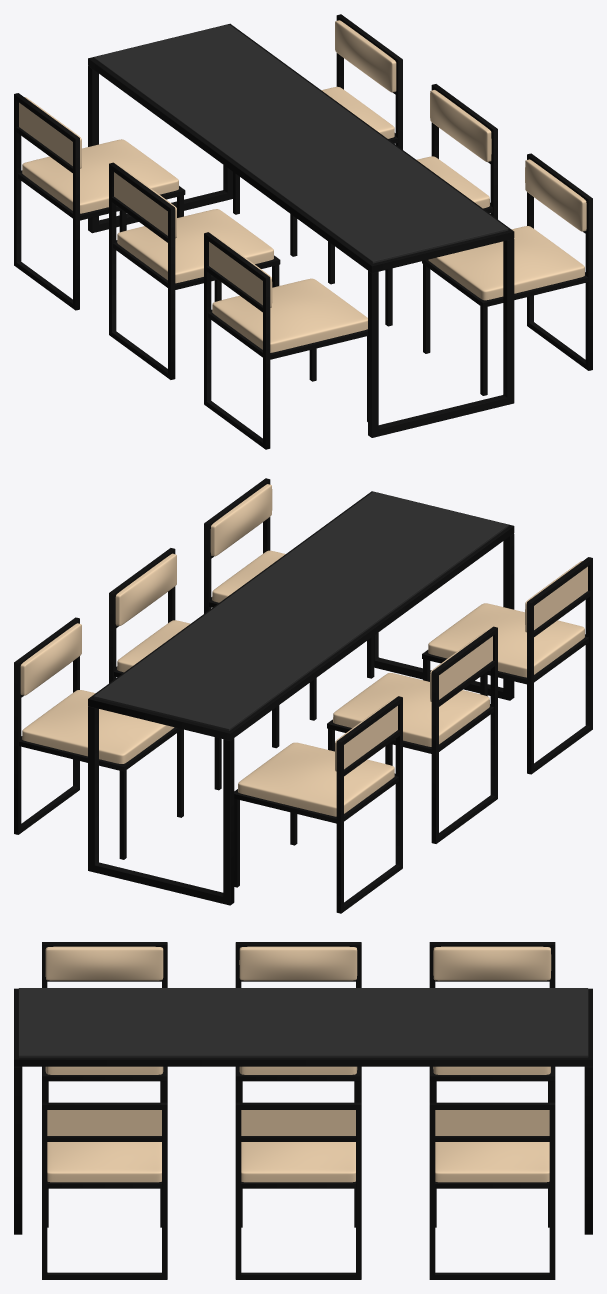
File: Set03.FBX
The picture shows the model from 3 angles, top to bottom: view 1: azimuth 30°, elevation 25°; view 2: azimuth 150°, elevation 25°; view 3: azimuth 270°, elevation 25°; orthographic projection.
Parts seen in each view (by area): view 1: Set03 - Long Table - 001, Set03 - Chair - 04, Set03 - Chair - 02, Set03 - Chair - 06, Set03 - Chair - 05, Set03 - Chair - 01, Set03 - Chair - 03; view 2: Set03 - Long Table - 001, Set03 - Chair - 05, Set03 - Chair - 03, Set03 - Chair - 06, Set03 - Chair - 04, Set03 - Chair - 01, Set03 - Chair - 02; view 3: Set03 - Long Table - 001, Set03 - Chair - 03, Set03 - Chair - 01, Set03 - Chair - 02, Set03 - Chair - 05, Set03 - Chair - 06, Set03 - Chair - 04.
Part boxes in pixels (left/top/right/bottom): Set03 - Long Table - 001: left=88, top=23, right=514, bottom=437; Set03 - Chair - 04: left=204, top=232, right=367, bottom=449; Set03 - Chair - 02: left=422, top=153, right=592, bottom=395; Set03 - Chair - 06: left=109, top=162, right=280, bottom=379; Set03 - Chair - 05: left=14, top=93, right=185, bottom=310; Set03 - Chair - 01: left=328, top=84, right=497, bottom=326; Set03 - Chair - 03: left=233, top=14, right=402, bottom=256; Set03 - Long Table - 001: left=88, top=491, right=514, bottom=905; Set03 - Chair - 05: left=234, top=696, right=402, bottom=913; Set03 - Chair - 03: left=14, top=617, right=183, bottom=859; Set03 - Chair - 06: left=327, top=626, right=497, bottom=843; Set03 - Chair - 04: left=422, top=557, right=592, bottom=774; Set03 - Chair - 01: left=109, top=548, right=279, bottom=790; Set03 - Chair - 02: left=204, top=478, right=374, bottom=720; Set03 - Long Table - 001: left=14, top=988, right=592, bottom=1234; Set03 - Chair - 03: left=429, top=1102, right=555, bottom=1279; Set03 - Chair - 01: left=235, top=1102, right=361, bottom=1279; Set03 - Chair - 02: left=42, top=1102, right=167, bottom=1279; Set03 - Chair - 05: left=429, top=942, right=555, bottom=1102; Set03 - Chair - 06: left=235, top=942, right=361, bottom=1102; Set03 - Chair - 04: left=42, top=942, right=167, bottom=1102.
Bounding box in the file's own units: 54.28 × 27.6 × 81.53.
